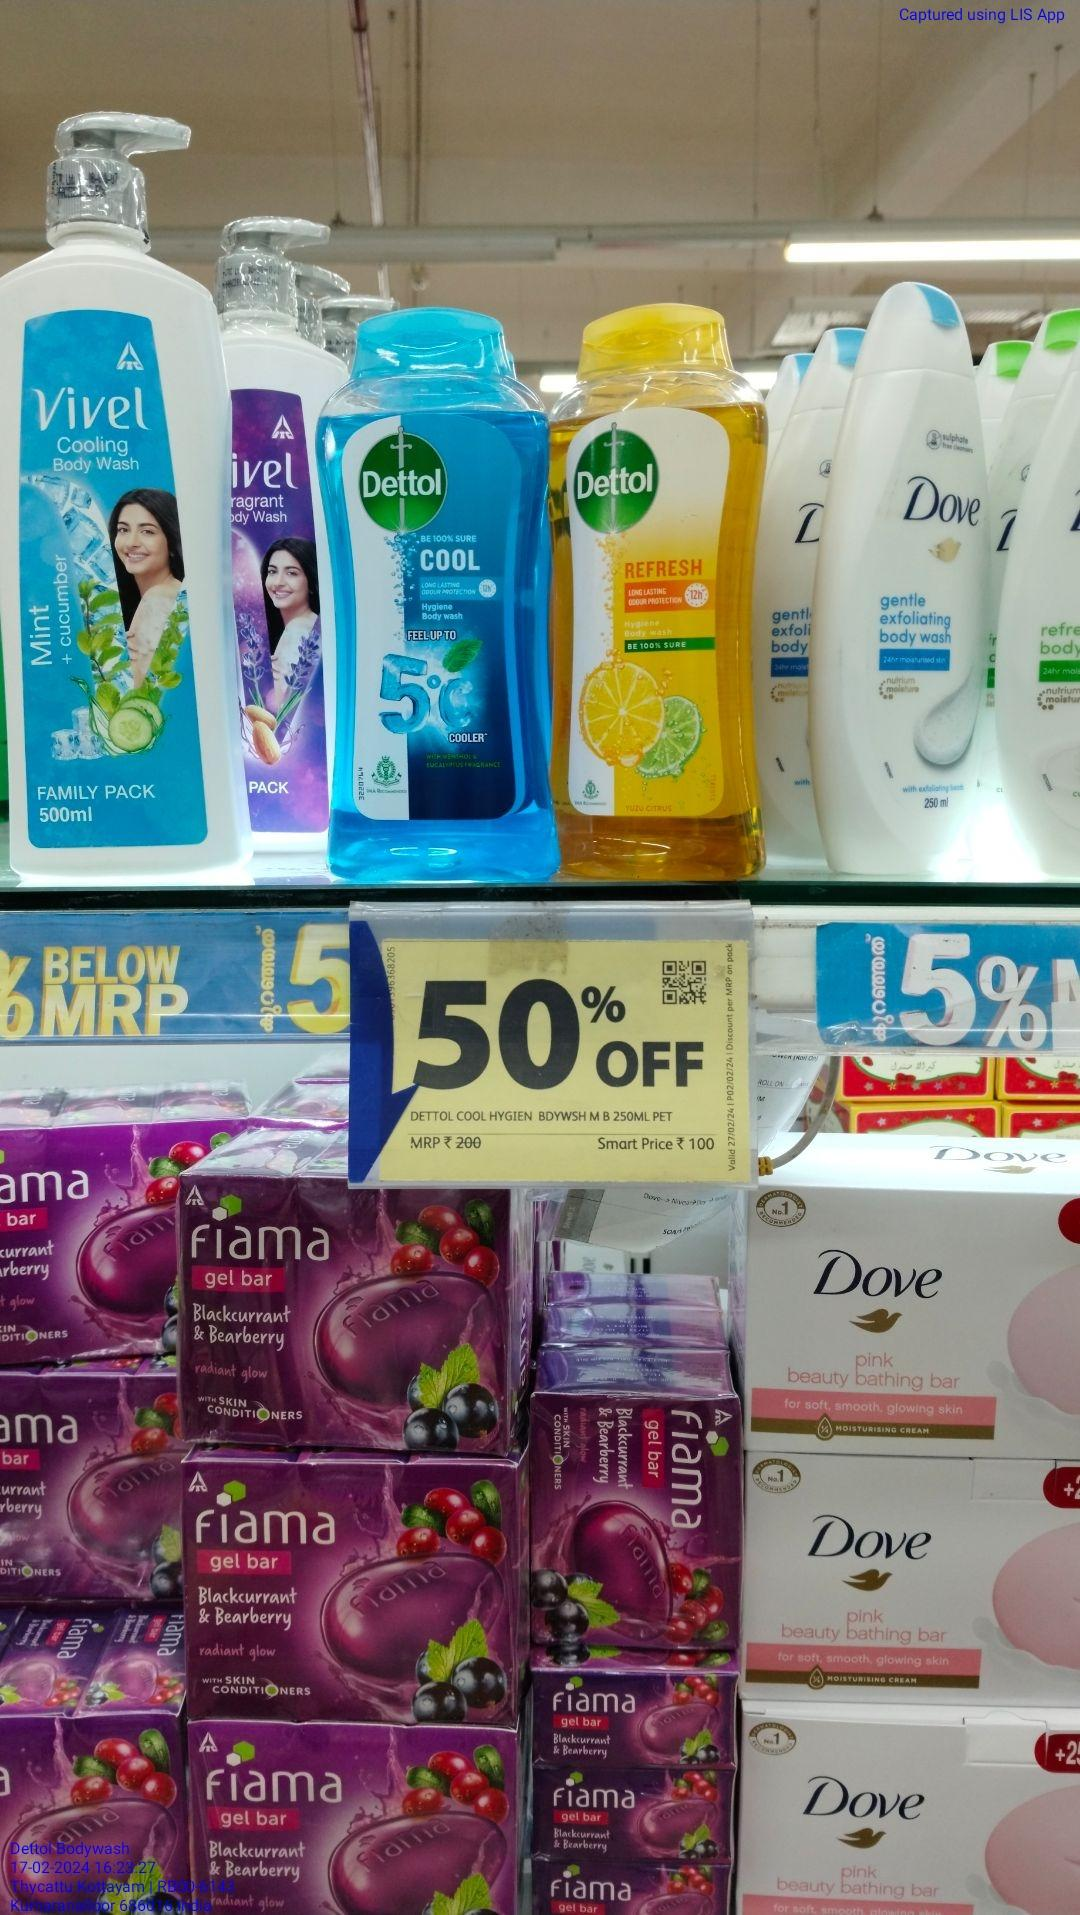Dettol_Bodywash_Cool: (321, 313, 554, 894)
Dettol_Bodywash_Refresh: (555, 306, 768, 894)
Dove_Gentle_Exfoliating_Body_Wash_250ML: (812, 279, 991, 884)
